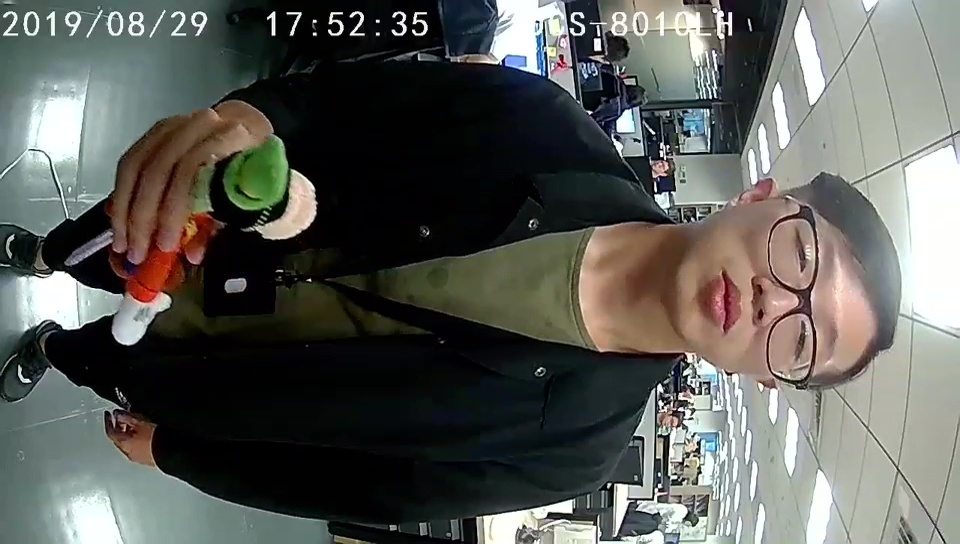goofy: (110, 133, 319, 348)
